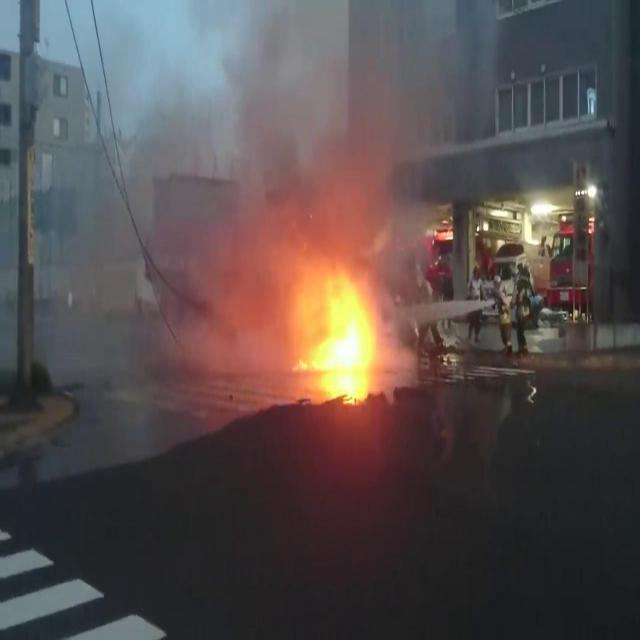fire: (299, 258, 379, 397)
